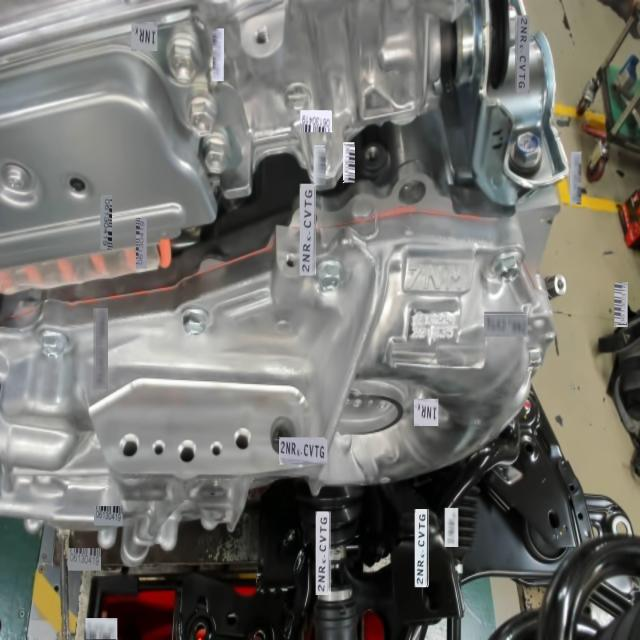Transaxele-7NM: (406, 261, 463, 295)
